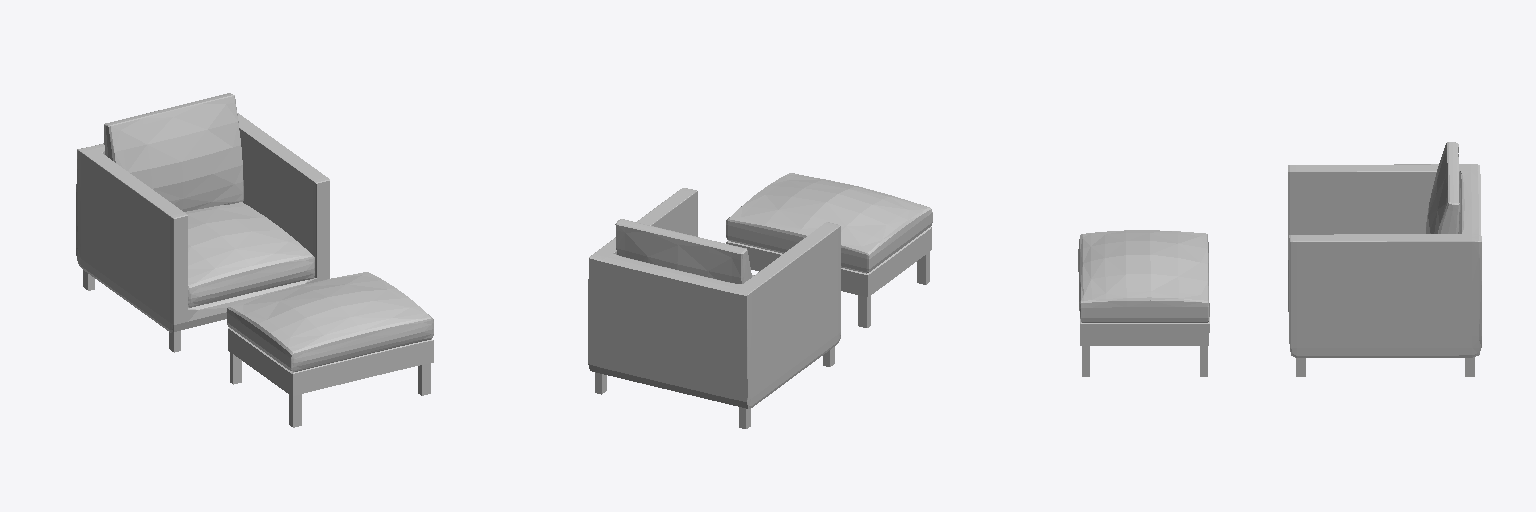
Rendered from IKEA-Karlstad_Footstool_and_Armchair-3D.obj.
3 renders of one model, left to right at view 1: azimuth 30°, elevation 25°; view 2: azimuth 150°, elevation 25°; view 3: azimuth 270°, elevation 25°, orthographic.
Visible parts, largest first — view 1: Object02, Object01; view 2: Object02, Object01; view 3: Object02, Object01.
Boxes of the visible parts, box(x1,y1,x2,y2) form: Object02: box(76, 93, 329, 352); Object01: box(227, 272, 433, 427); Object02: box(588, 188, 840, 428); Object01: box(726, 173, 932, 327); Object02: box(1288, 142, 1481, 376); Object01: box(1078, 230, 1209, 376).
Bounding box in the file's own units: 89.34 × 89.77 × 195.